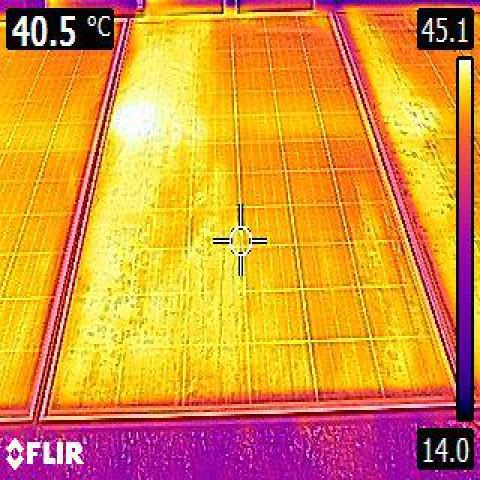fault: (114, 103, 148, 139)
